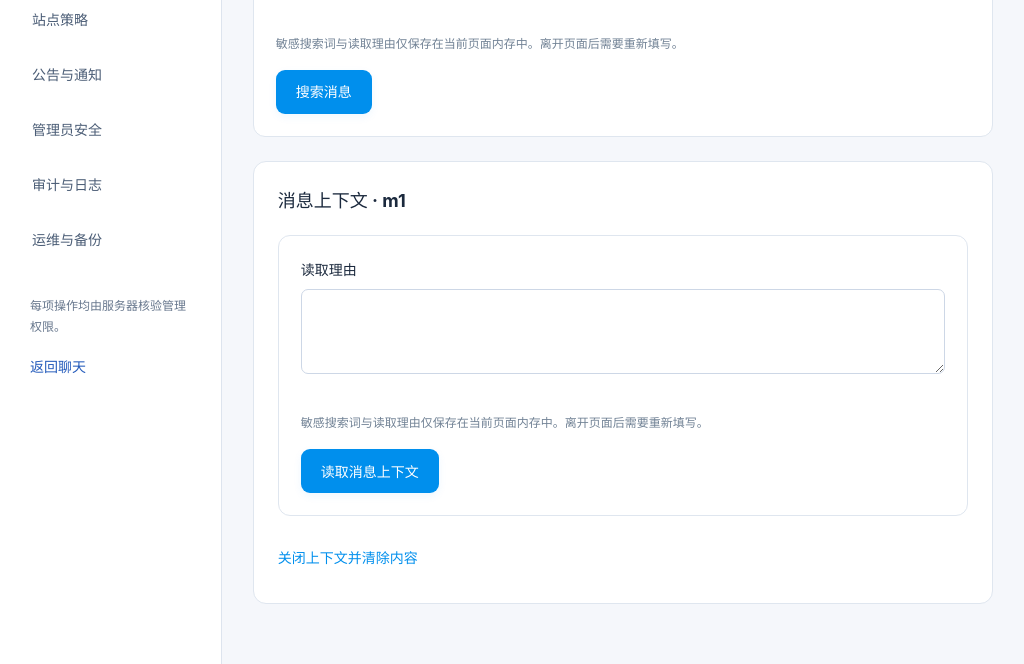
Test: S2 sensitive content and files › does not read bookmarked content details until a fresh reason is submitted
(page scrolled)
Type "核实用户举报事实" into the text box labelled "读取理由" below "消息上下文 ·" at coordinates (623, 332), box [301,289,945,374]
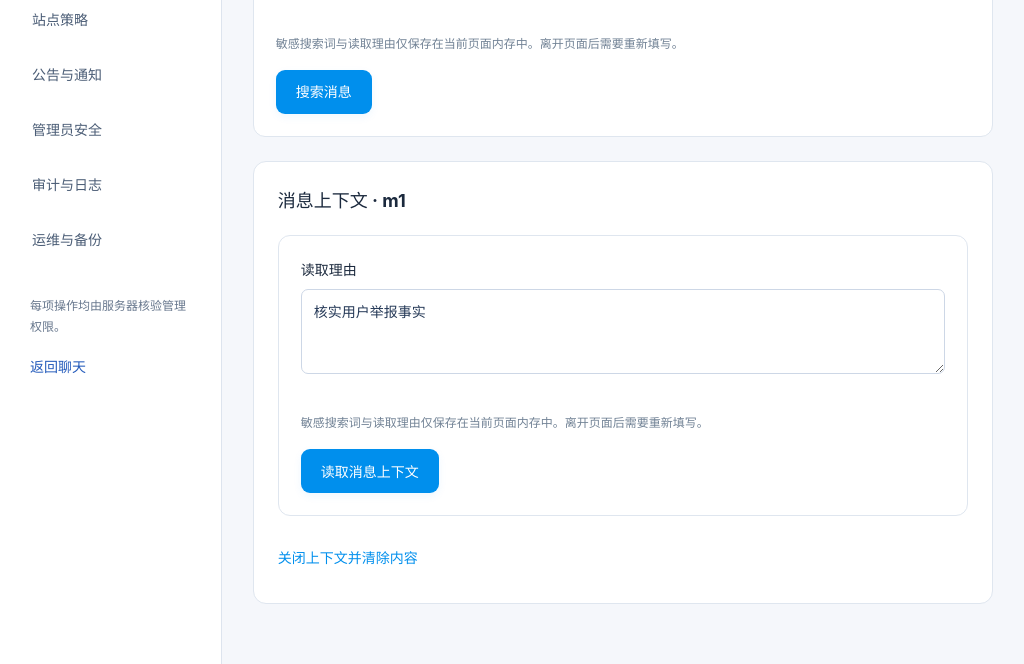
Click the button "读取消息上下文" at coordinates (370, 471), box [301,449,439,493]
(page scrolled)
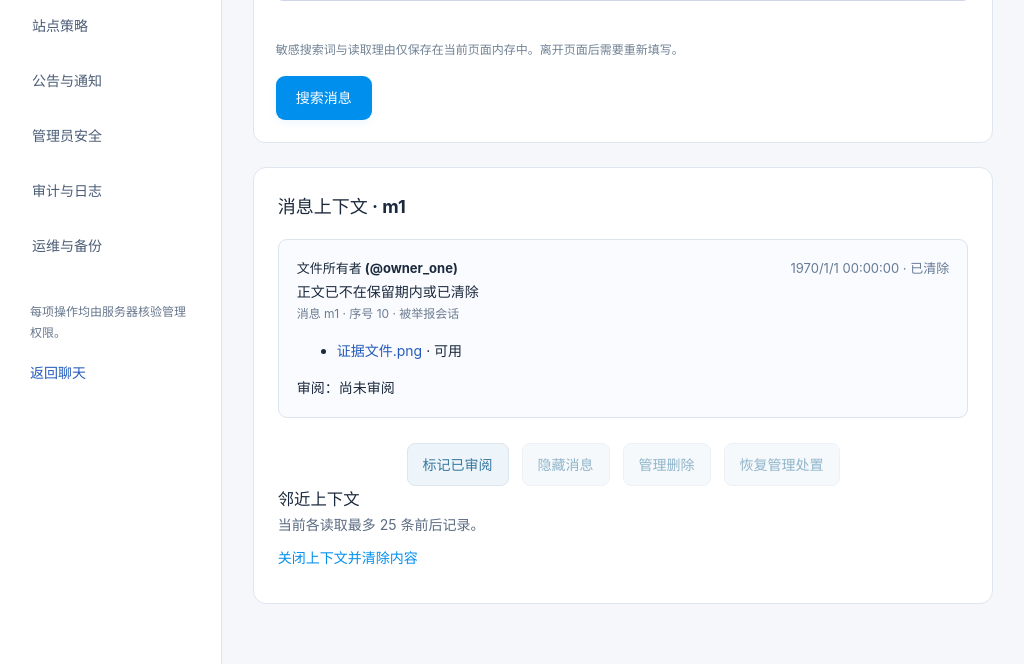
Now the text "正文已不在保留期内或已清除" is shown, box [297,283,479,300]
Now the button "恢复管理处置" is disabled, box [724,443,840,486]
